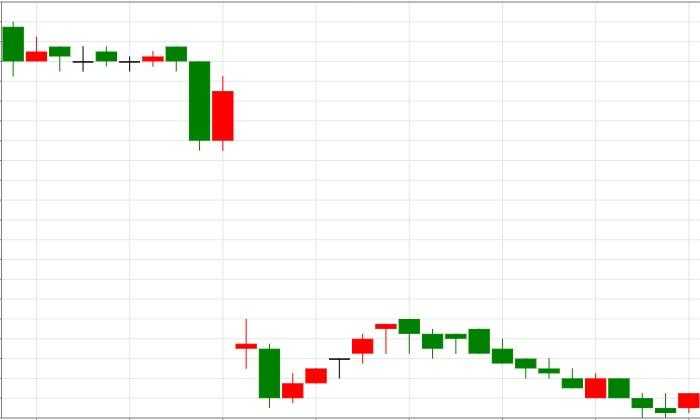bearish_engulfing_fall: (258, 319, 420, 408)
